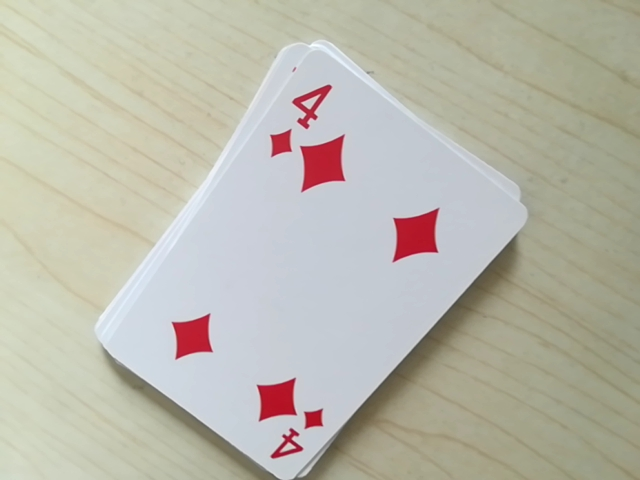fk 4: (260, 66, 334, 166), (258, 406, 330, 470)
